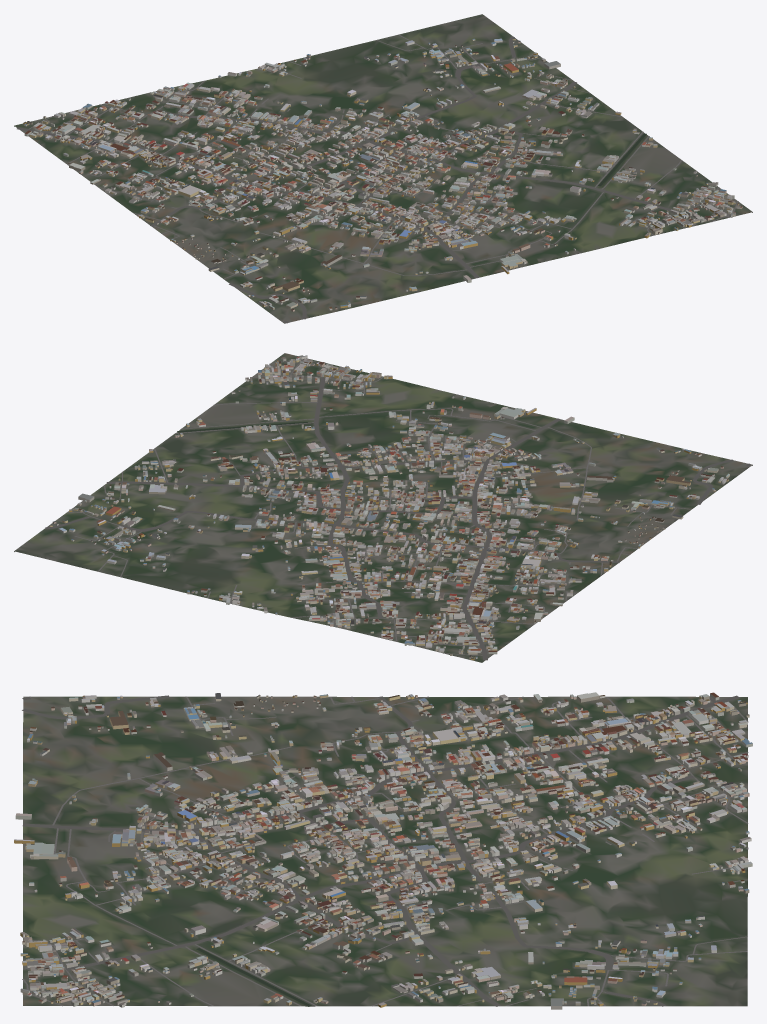
The picture shows the model from 3 angles, top to bottom: view 1: azimuth 30°, elevation 25°; view 2: azimuth 150°, elevation 25°; view 3: azimuth 270°, elevation 25°; orthographic projection. The views are drawn at different scales.
Parts seen in each view (by area): view 1: ground, buildings, roads; view 2: ground, buildings, roads; view 3: ground, buildings, roads.
Part boxes in pixels (left/top/right/bottom): ground: left=14, top=14, right=752, bottom=323; buildings: left=23, top=38, right=742, bottom=311; roads: left=17, top=34, right=738, bottom=323; ground: left=14, top=353, right=752, bottom=662; buildings: left=50, top=355, right=729, bottom=660; roads: left=45, top=358, right=750, bottom=660; ground: left=23, top=696, right=747, bottom=1006; buildings: left=14, top=692, right=752, bottom=1009; roads: left=22, top=695, right=748, bottom=1006.
Size of the model in its own units: 1421 by 22.76 by 1428.
